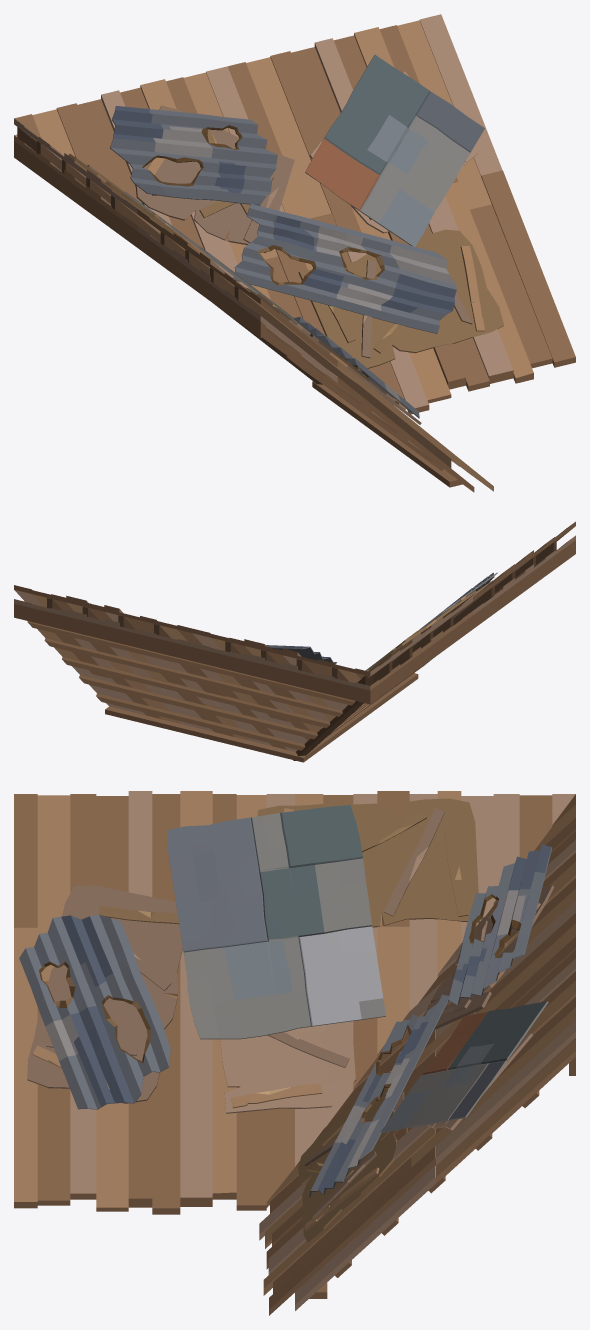
File: SM_Roof_Angle_Out_Long_Lvl_1.glb
The picture shows the model from 3 angles, top to bottom: view 1: azimuth 30°, elevation 25°; view 2: azimuth 150°, elevation 25°; view 3: azimuth 270°, elevation 25°; orthographic projection. The views are drawn at different scales.
Visible parts, largest first — view 1: SM_Roof_Angle_Out_Long_Lvl_1, SM_Roof_Angle_Out_Lvl_3, SM_Roof_Angle_Out_Lvl_2; view 2: SM_Roof_Angle_Out_Long_Lvl_1, SM_Roof_Angle_Out_Lvl_3, SM_Roof_Angle_Out_Lvl_2; view 3: SM_Roof_Angle_Out_Long_Lvl_1, SM_Roof_Angle_Out_Lvl_3, SM_Roof_Angle_Out_Lvl_2.
Part boxes in pixels (<box>): SM_Roof_Angle_Out_Long_Lvl_1: <box>14,14,575,492</box>; SM_Roof_Angle_Out_Lvl_3: <box>110,55,484,418</box>; SM_Roof_Angle_Out_Lvl_2: <box>68,71,503,424</box>; SM_Roof_Angle_Out_Long_Lvl_1: <box>14,521,575,762</box>; SM_Roof_Angle_Out_Lvl_3: <box>90,572,497,670</box>; SM_Roof_Angle_Out_Lvl_2: <box>367,580,492,671</box>; SM_Roof_Angle_Out_Long_Lvl_1: <box>14,791,575,1315</box>; SM_Roof_Angle_Out_Lvl_3: <box>19,805,552,1197</box>; SM_Roof_Angle_Out_Lvl_2: <box>27,798,554,1242</box>.
Bounding box in the file's own units: 4 × 2.33 × 4.
Materials: 1 (1 with a texture image).
